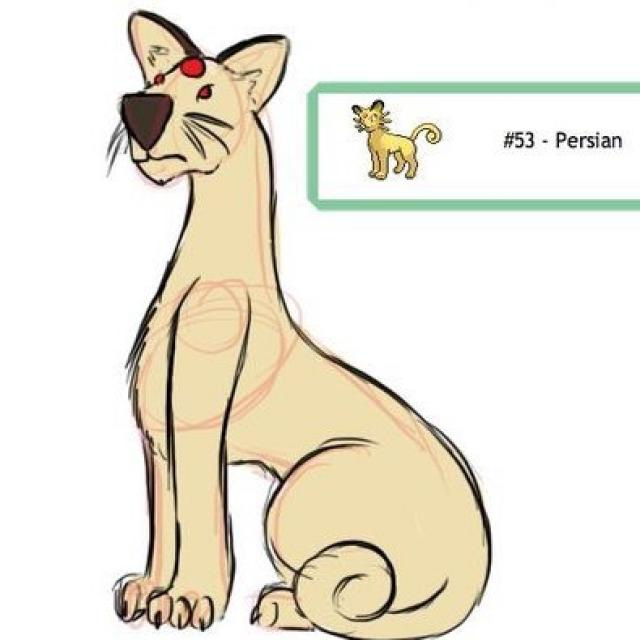Persian: (118, 13, 480, 627)
